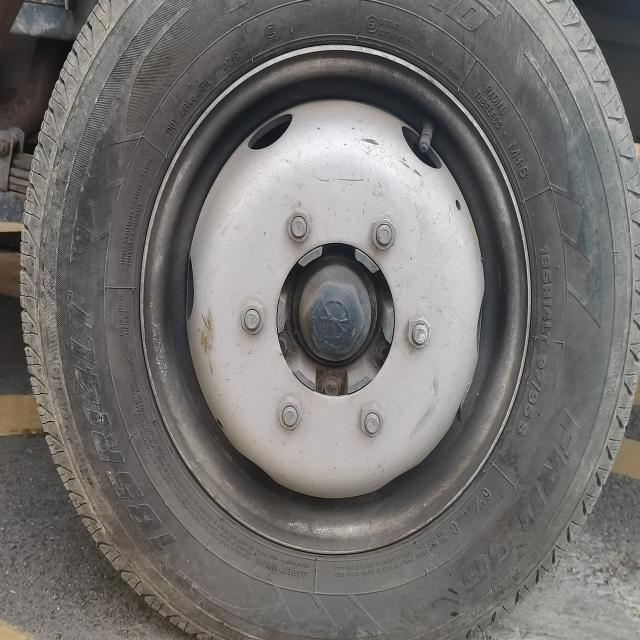bolt nut: (358, 401, 386, 439), (285, 207, 313, 244), (239, 299, 266, 337), (405, 313, 432, 351), (369, 215, 396, 252), (277, 395, 304, 432)
